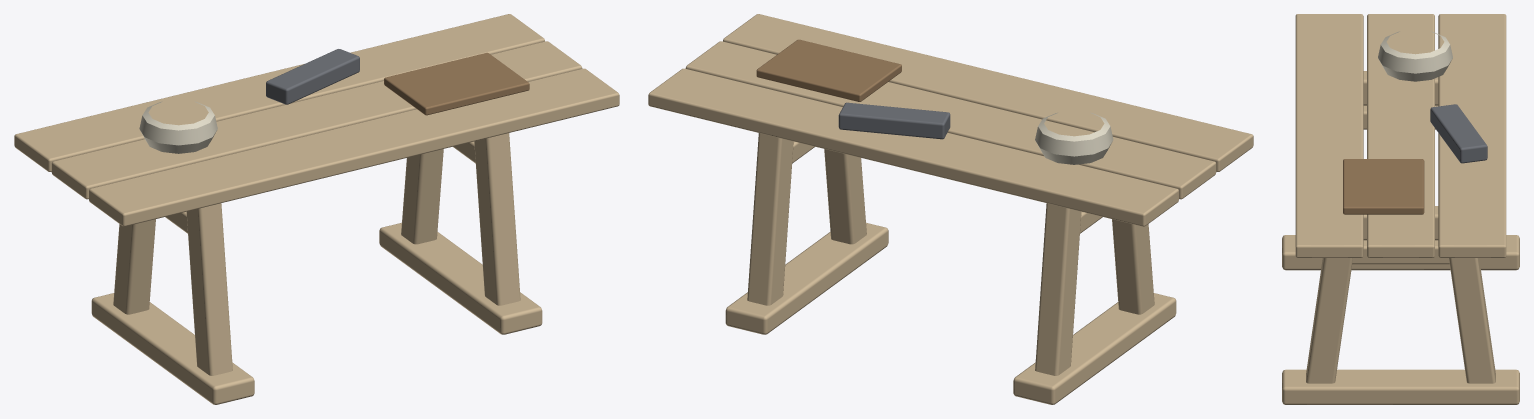
The model's file is table.glb.
3 views of the same model, side by side, from view 1: azimuth 30°, elevation 25°; view 2: azimuth 150°, elevation 25°; view 3: azimuth 270°, elevation 25° (orthographic). The views are drawn at different scales.
Parts seen in each view (by area): view 1: trestle-table; view 2: trestle-table; view 3: trestle-table.
Part boxes in pixels (x1,y1,x2,y2): trestle-table: (14, 14, 619, 404); trestle-table: (648, 14, 1253, 404); trestle-table: (1282, 14, 1519, 404).
Bounding box in the file's own units: 1.9 × 0.862 × 0.82.
